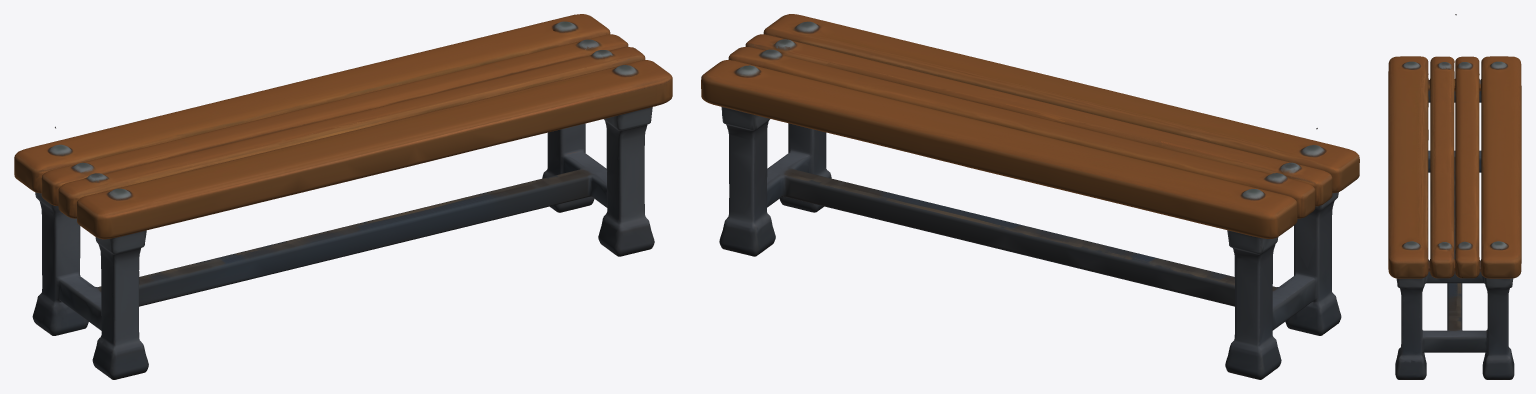
The model's file is wooden_bench_lod.glb.
3 renders of one model, left to right at view 1: azimuth 30°, elevation 25°; view 2: azimuth 150°, elevation 25°; view 3: azimuth 270°, elevation 25°, orthographic. The views are drawn at different scales.
Visible parts, largest first — view 1: world; view 2: world; view 3: world.
Part boxes in pixels (x1,y1,x2,y2): world: (14, 14, 672, 379); world: (701, 14, 1359, 379); world: (1388, 14, 1521, 379).
Size of the model in its own units: 0.9999 by 0.3795 by 0.2734.
Materials: 1 (1 with a texture image).
